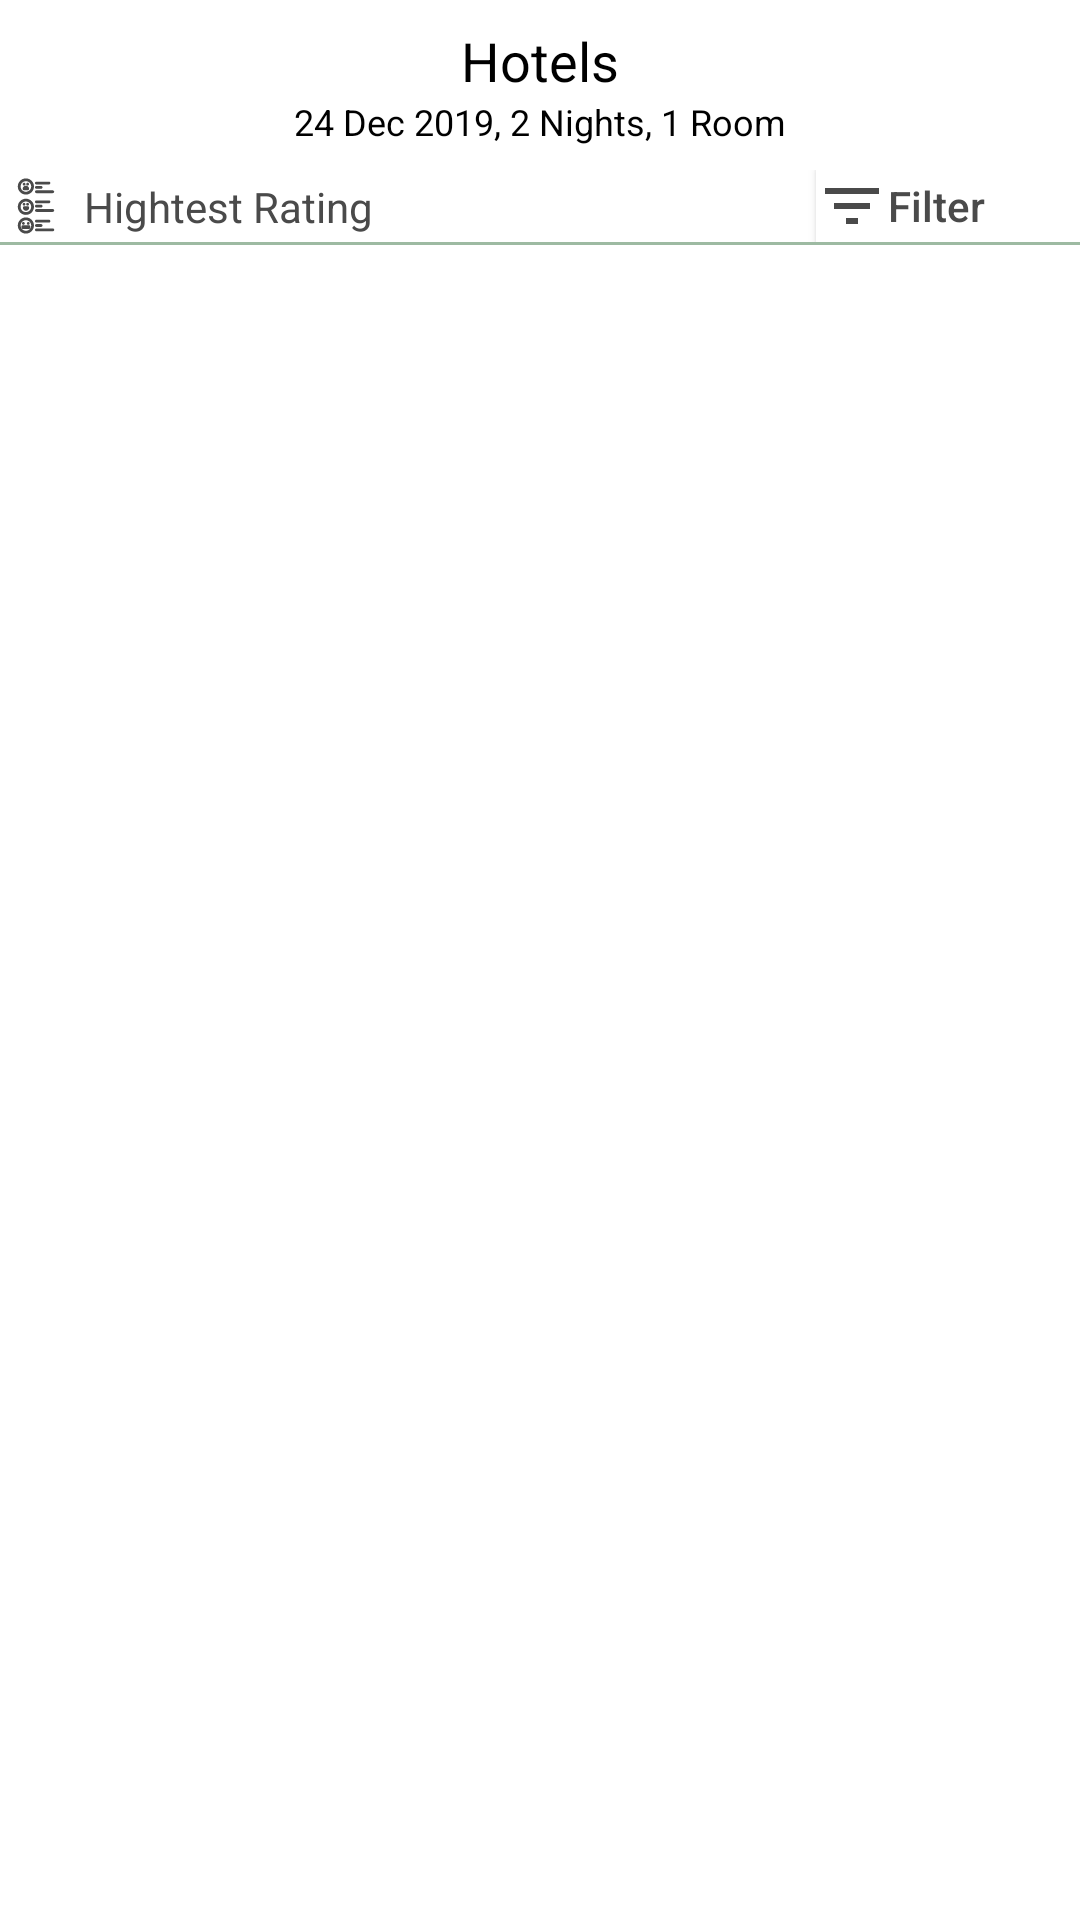

Where to tap for icons on this 1080x1920 app screen, as point (x, y):
rating second: point (35, 206)
